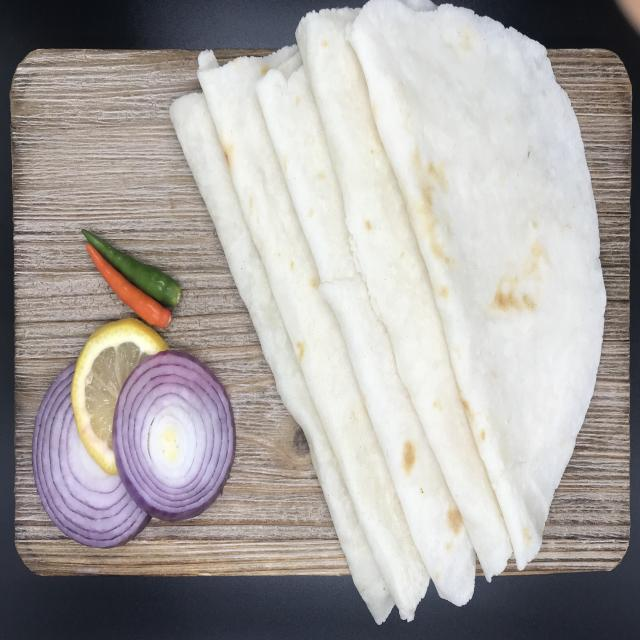RICE BHAKRI: (355, 9, 616, 565)
